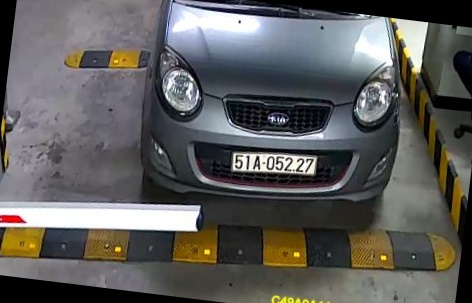plate: (225, 139, 324, 187)
